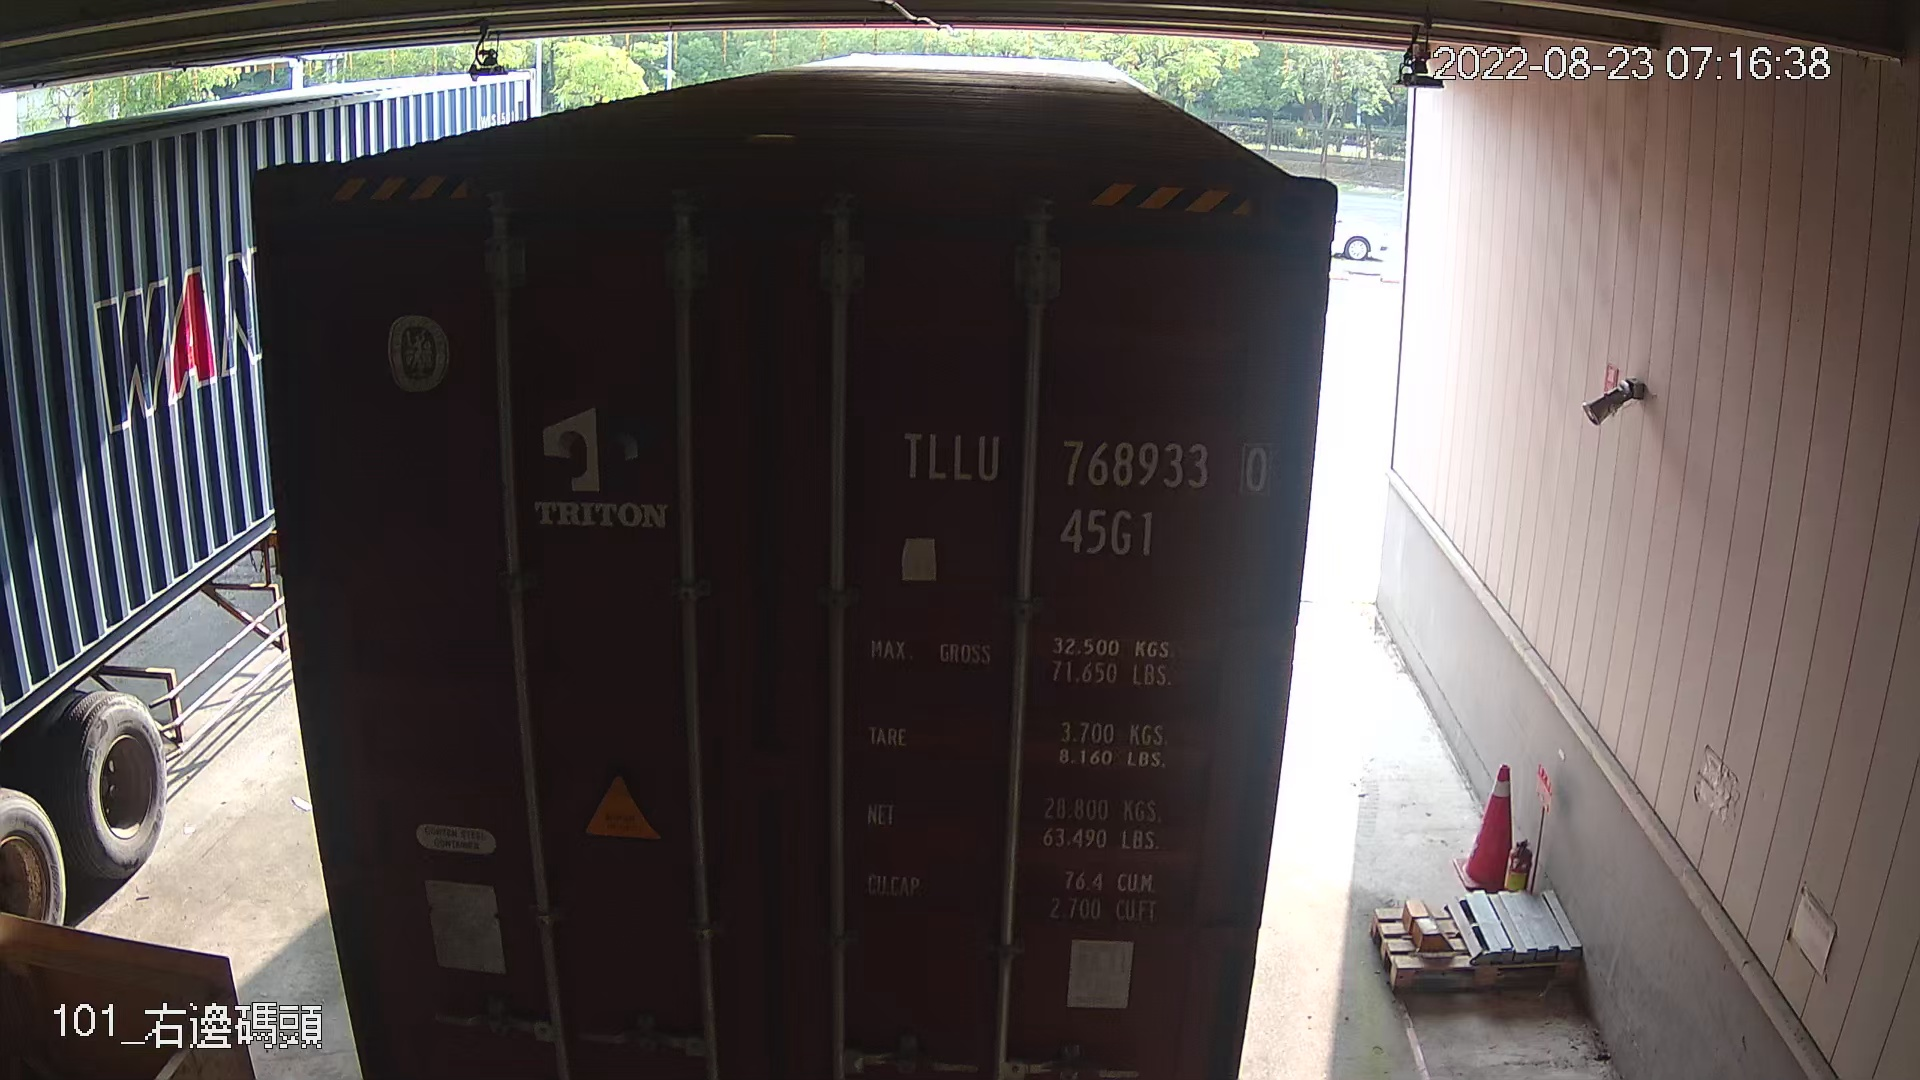container: (891, 407, 1282, 567)
